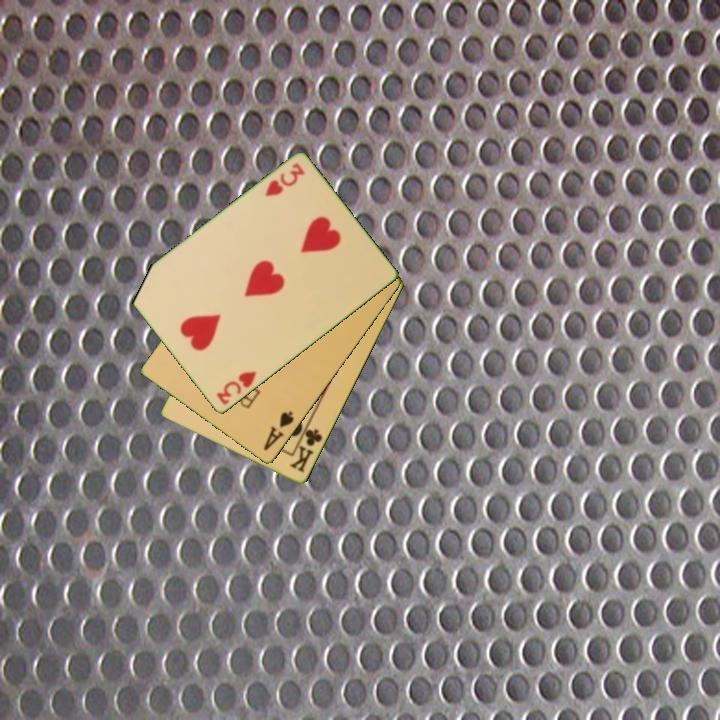3h: (212, 368, 260, 408), (261, 160, 308, 200)
As: (260, 408, 297, 454)
Kc: (286, 420, 325, 476)
